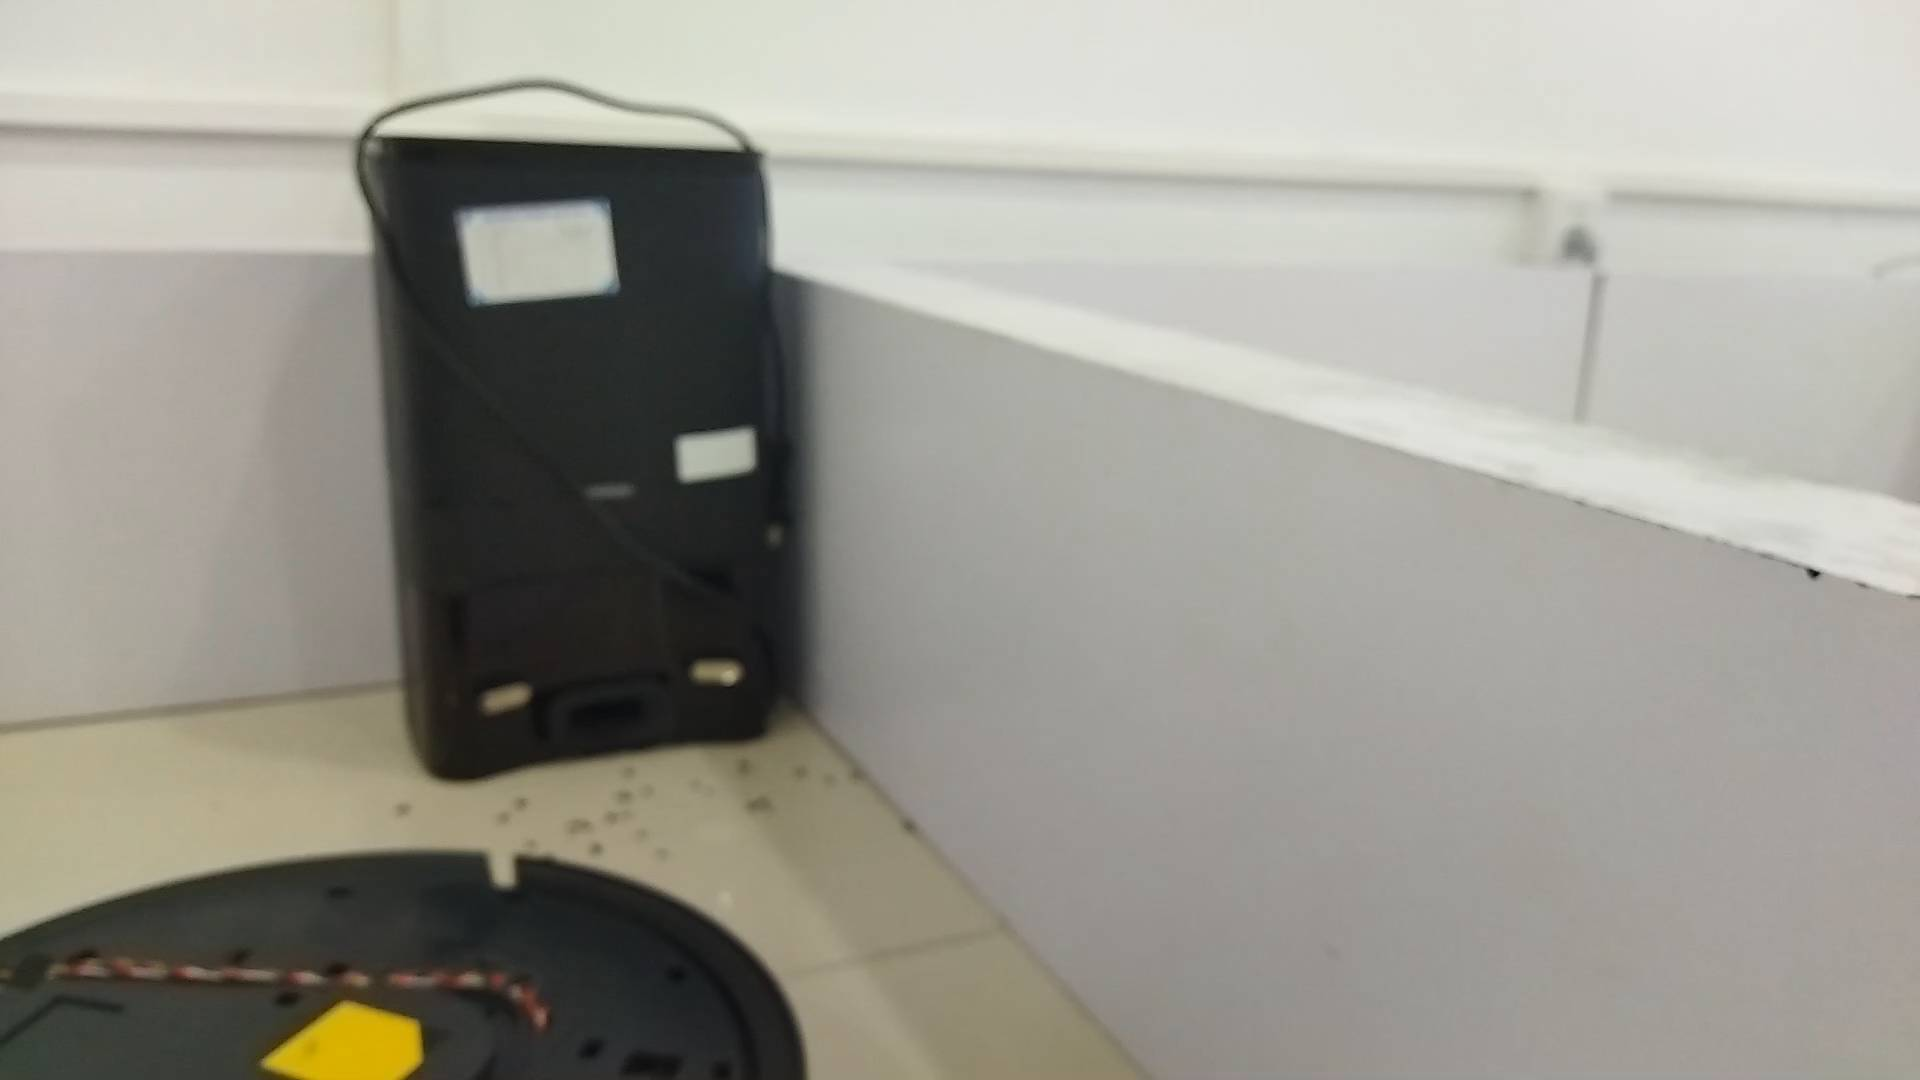dust collecting barrel: (363, 132, 778, 782)
